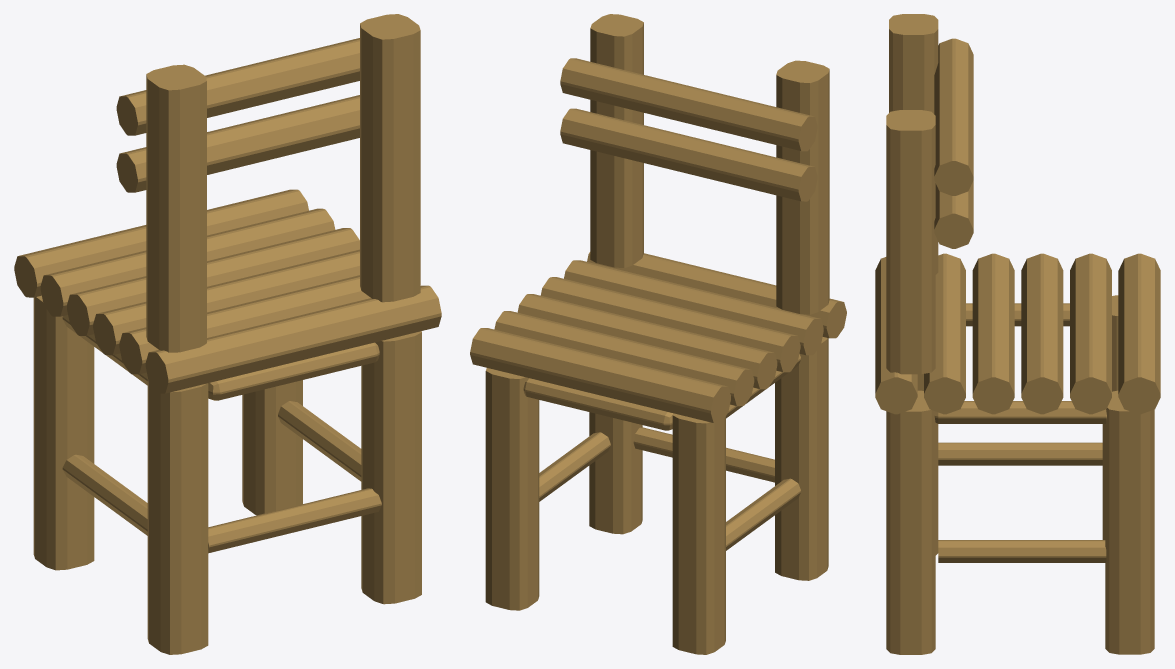
The model's file is 木のいす.fbx.
3 renders of one model, left to right at view 1: azimuth 30°, elevation 25°; view 2: azimuth 150°, elevation 25°; view 3: azimuth 270°, elevation 25°, orthographic. The views are drawn at different scales.
Parts seen in each view (by area): view 1: いす; view 2: いす; view 3: いす.
Boxes of the visible parts, bbox=[...] form: いす: bbox=[14, 14, 441, 654]; いす: bbox=[470, 14, 846, 654]; いす: bbox=[875, 14, 1160, 654].
Bounding box in the file's own units: 6.27 × 12.39 × 6.13.
